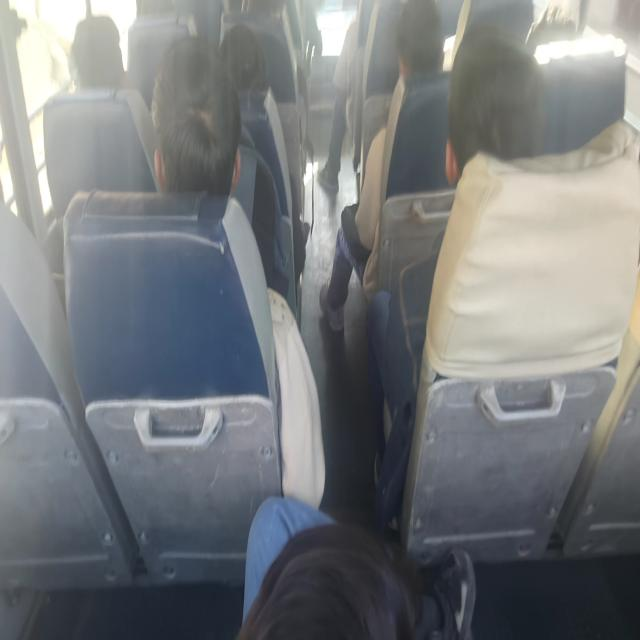person: (207, 512, 442, 640), (147, 47, 217, 218), (458, 37, 540, 179), (64, 18, 116, 106), (218, 22, 256, 112), (395, 12, 445, 77), (534, 8, 587, 44)
